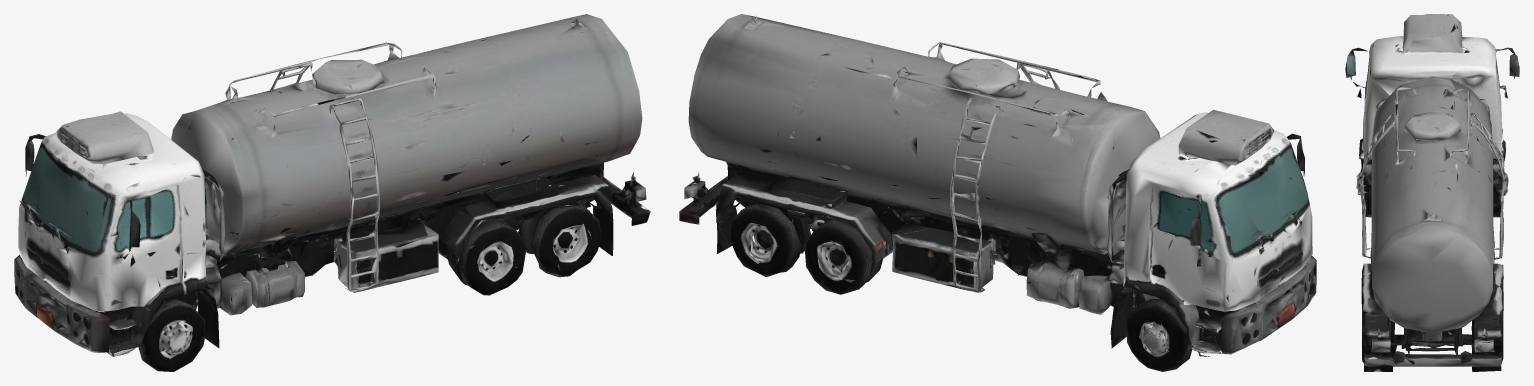
The model's file is milk-tanker-lite.glb.
The picture shows the model from 3 angles, left to right: view 1: azimuth 30°, elevation 25°; view 2: azimuth 150°, elevation 25°; view 3: azimuth 270°, elevation 25°; orthographic projection. The views are drawn at different scales.
Size of the model in its own units: 1.9 by 0.7115 by 0.6416.
Materials: 1 (1 with a texture image).
